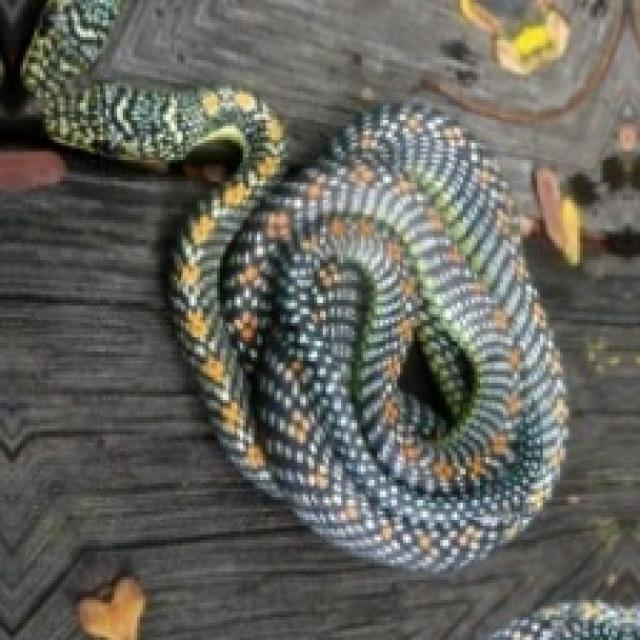paradise tree snake: (26, 0, 566, 569)
